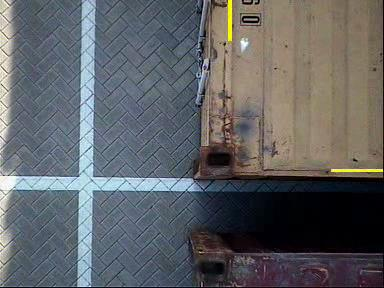groundmarker_2: (98, 147, 181, 200)
